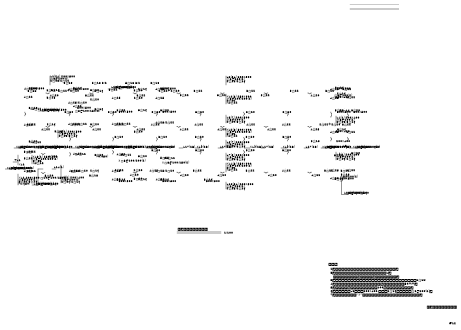wall: (84, 123, 88, 126), (130, 76, 134, 79), (130, 176, 134, 179), (281, 89, 285, 92), (41, 79, 45, 82), (98, 82, 102, 85), (409, 123, 413, 126), (414, 123, 418, 126), (220, 204, 224, 207), (374, 204, 378, 207), (394, 206, 398, 209), (32, 103, 36, 106), (32, 100, 36, 103), (32, 109, 36, 112), (68, 215, 72, 218), (53, 176, 57, 179), (110, 123, 114, 126), (105, 123, 109, 126), (40, 123, 44, 126), (401, 57, 405, 60), (396, 57, 400, 60), (232, 76, 236, 79), (181, 176, 185, 179), (181, 207, 185, 210), (69, 173, 73, 176), (222, 173, 226, 176), (324, 173, 328, 176), (79, 182, 83, 185), (38, 70, 42, 73), (33, 70, 37, 73), (53, 205, 57, 208), (150, 90, 154, 93), (390, 175, 394, 178), (181, 76, 185, 79), (48, 194, 52, 197), (22, 155, 25, 158), (22, 195, 25, 198), (28, 131, 31, 134), (28, 179, 31, 182), (22, 207, 25, 210), (18, 123, 21, 126), (16, 123, 19, 126), (13, 123, 16, 126), (75, 89, 78, 92), (74, 156, 77, 159), (74, 187, 77, 190), (80, 208, 83, 211), (82, 113, 85, 116), (82, 206, 85, 209), (87, 123, 90, 126), (82, 123, 85, 126), (125, 89, 128, 92), (133, 74, 136, 77), (135, 112, 138, 115), (133, 174, 136, 177), (122, 123, 125, 126), (119, 123, 122, 126), (117, 123, 120, 126), (224, 123, 227, 126), (287, 123, 290, 126), (325, 123, 328, 126), (385, 111, 388, 114), (386, 176, 389, 179), (376, 123, 379, 126), (374, 123, 377, 126), (371, 123, 374, 126), (169, 89, 172, 92), (324, 89, 327, 92), (373, 89, 376, 92), (392, 89, 395, 92), (46, 82, 49, 85), (146, 83, 149, 86), (259, 93, 262, 96), (259, 96, 262, 99), (259, 99, 262, 102), (405, 176, 408, 179), (412, 123, 415, 126), (407, 123, 410, 126), (259, 124, 262, 127), (259, 127, 262, 130), (259, 130, 262, 133), (259, 145, 262, 148), (259, 148, 262, 151), (62, 204, 65, 207), (180, 204, 183, 207), (282, 204, 285, 207), (333, 204, 336, 207), (154, 197, 157, 200), (357, 197, 360, 200), (388, 200, 391, 203), (385, 197, 388, 200), (259, 187, 262, 190), (55, 123, 58, 126), (52, 123, 55, 126), (50, 123, 53, 126), (26, 116, 29, 119), (32, 106, 35, 109), (66, 73, 69, 76), (66, 76, 69, 79), (66, 79, 69, 82), (151, 145, 154, 148), (156, 77, 159, 80), (156, 176, 159, 179), (146, 123, 149, 126), (143, 123, 146, 126), (141, 123, 144, 126), (170, 215, 173, 218), (108, 123, 111, 126), (208, 123, 211, 126), (251, 123, 254, 126), (301, 123, 304, 126), (352, 123, 355, 126), (11, 104, 14, 107), (43, 123, 46, 126), (38, 123, 41, 126), (399, 57, 402, 60), (52, 197, 55, 200), (94, 197, 97, 200), (259, 139, 262, 142), (30, 178, 33, 181), (235, 74, 238, 77), (184, 174, 187, 177), (184, 207, 187, 210), (386, 208, 389, 211), (388, 207, 391, 210), (378, 123, 381, 126), (259, 105, 262, 108), (120, 173, 123, 176), (171, 173, 174, 176), (282, 173, 285, 176), (259, 159, 262, 162), (82, 175, 85, 178), (156, 110, 159, 113), (388, 106, 391, 109), (388, 109, 391, 112), (388, 112, 391, 115), (36, 70, 39, 73), (399, 90, 402, 93), (388, 159, 391, 162), (388, 162, 391, 165), (388, 165, 391, 168), (28, 207, 31, 210), (30, 207, 33, 210), (74, 206, 77, 209), (220, 89, 223, 92), (53, 218, 56, 221), (53, 221, 56, 224), (102, 215, 105, 218), (141, 215, 144, 218), (57, 94, 60, 97), (176, 89, 179, 92), (176, 158, 179, 161), (172, 123, 175, 126), (170, 123, 173, 126), (167, 123, 170, 126), (186, 107, 189, 110), (16, 76, 19, 79), (16, 79, 19, 82), (16, 98, 19, 101), (100, 205, 103, 208), (380, 206, 383, 209), (63, 139, 66, 142), (63, 142, 66, 145), (63, 145, 66, 148), (184, 74, 187, 77), (7, 93, 10, 96), (5, 93, 8, 96), (2, 93, 5, 96), (9, 93, 12, 96), (100, 89, 103, 92), (100, 191, 103, 194), (129, 209, 132, 212), (127, 209, 130, 212), (124, 209, 127, 212), (137, 209, 140, 212), (386, 195, 389, 198), (387, 146, 390, 149), (392, 78, 395, 81), (22, 107, 25, 110), (22, 89, 25, 92), (30, 130, 33, 133), (79, 114, 83, 116), (130, 113, 134, 115), (204, 83, 208, 85), (170, 156, 174, 158), (221, 156, 225, 158), (42, 149, 46, 151), (306, 149, 310, 151), (388, 149, 392, 151), (26, 204, 30, 206), (204, 198, 208, 200), (307, 83, 311, 85), (222, 119, 226, 121), (48, 205, 52, 207), (181, 108, 185, 110), (15, 71, 19, 73), (150, 78, 154, 80), (150, 205, 154, 207), (22, 117, 25, 119), (125, 157, 128, 159), (125, 194, 128, 196), (380, 145, 383, 147), (380, 194, 383, 196), (388, 174, 391, 176), (26, 89, 29, 91), (77, 89, 80, 91), (128, 90, 131, 92), (248, 83, 251, 85), (393, 84, 396, 86), (392, 81, 395, 83), (399, 145, 402, 147), (399, 195, 402, 197), (407, 174, 410, 176), (128, 138, 131, 140), (179, 138, 182, 140), (222, 138, 225, 140), (281, 138, 284, 140), (324, 138, 327, 140), (358, 132, 361, 134), (387, 132, 390, 134), (26, 156, 29, 158), (78, 156, 81, 158), (129, 156, 132, 158), (282, 156, 285, 158), (324, 156, 327, 158), (368, 156, 371, 158), (394, 156, 397, 158), (154, 149, 157, 151), (204, 149, 207, 151), (248, 149, 251, 151), (357, 149, 360, 151), (259, 142, 262, 144), (121, 206, 124, 208), (248, 198, 251, 200), (299, 198, 302, 200), (259, 193, 262, 195), (259, 196, 262, 198), (58, 146, 61, 148), (51, 110, 54, 112), (156, 207, 159, 209), (259, 64, 262, 66), (259, 67, 262, 69), (259, 70, 262, 72), (259, 218, 262, 220), (259, 221, 262, 223), (259, 224, 262, 226), (46, 177, 49, 179), (43, 177, 46, 179), (41, 177, 44, 179), (105, 112, 108, 114), (105, 204, 108, 206), (259, 190, 262, 192), (102, 149, 105, 151), (259, 91, 262, 93), (358, 83, 361, 85), (385, 78, 388, 80), (133, 104, 136, 106), (151, 194, 154, 196), (171, 119, 174, 121), (282, 119, 285, 121), (324, 119, 327, 121), (259, 109, 262, 111), (259, 112, 262, 114), (259, 163, 262, 165), (259, 166, 262, 168), (84, 180, 87, 182), (105, 178, 108, 180), (405, 115, 408, 117), (380, 90, 383, 92), (125, 77, 128, 79), (380, 79, 383, 81), (100, 156, 103, 158), (53, 225, 56, 227), (176, 194, 179, 196), (176, 77, 179, 79), (184, 101, 187, 103), (16, 74, 19, 76), (176, 207, 179, 209), (107, 110, 110, 112), (49, 156, 52, 158), (395, 125, 398, 127)
